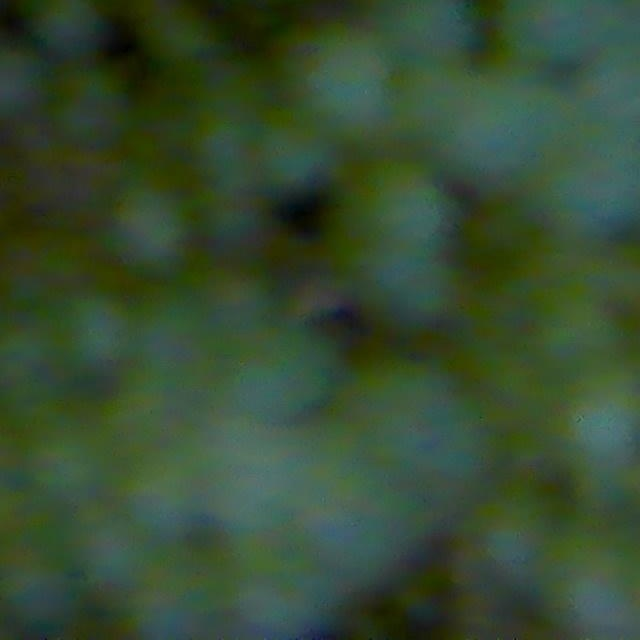SeaGrape: (324, 162, 450, 284), (536, 529, 640, 637), (289, 41, 394, 136), (540, 370, 640, 460), (472, 496, 558, 588), (504, 0, 621, 66), (28, 420, 115, 506), (238, 111, 325, 195), (106, 175, 185, 267), (374, 0, 472, 70), (53, 65, 131, 149), (61, 290, 141, 371), (24, 0, 115, 60)
